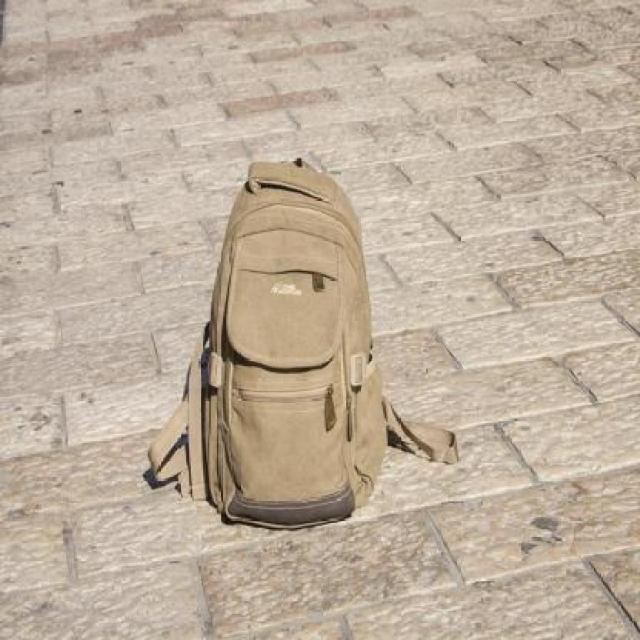backpack: (158, 144, 400, 538)
